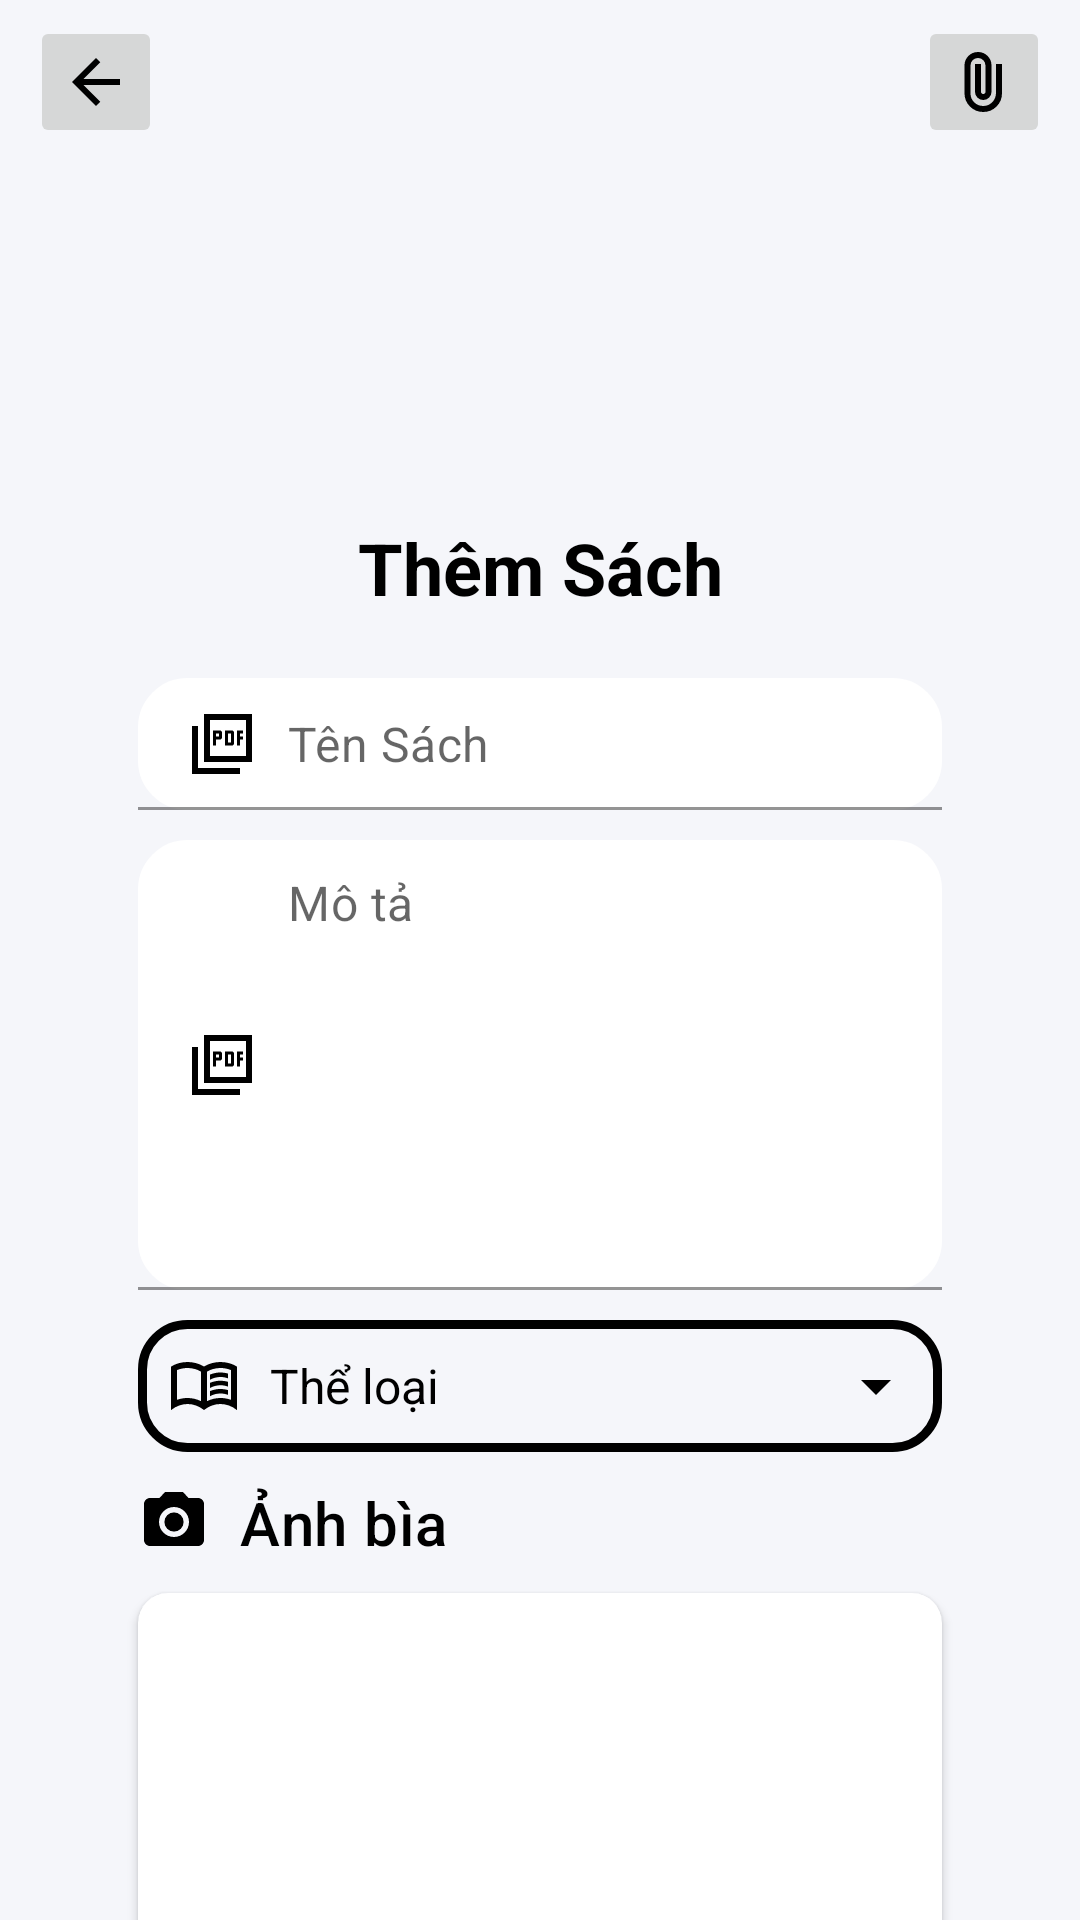

Icon bounding boxes for this 1080px×1920px phone screenshot, format detection(x1, y1, x2, y2):
Attach file: detection(930, 34, 1038, 130)
Back button: detection(42, 34, 150, 130)
